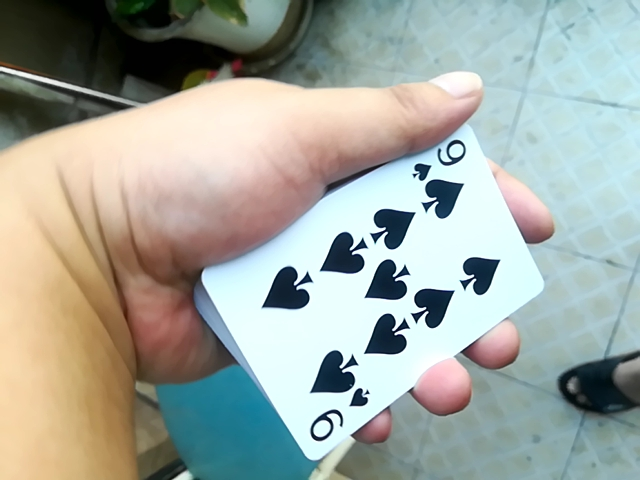ht 9: (181, 112, 549, 460)
